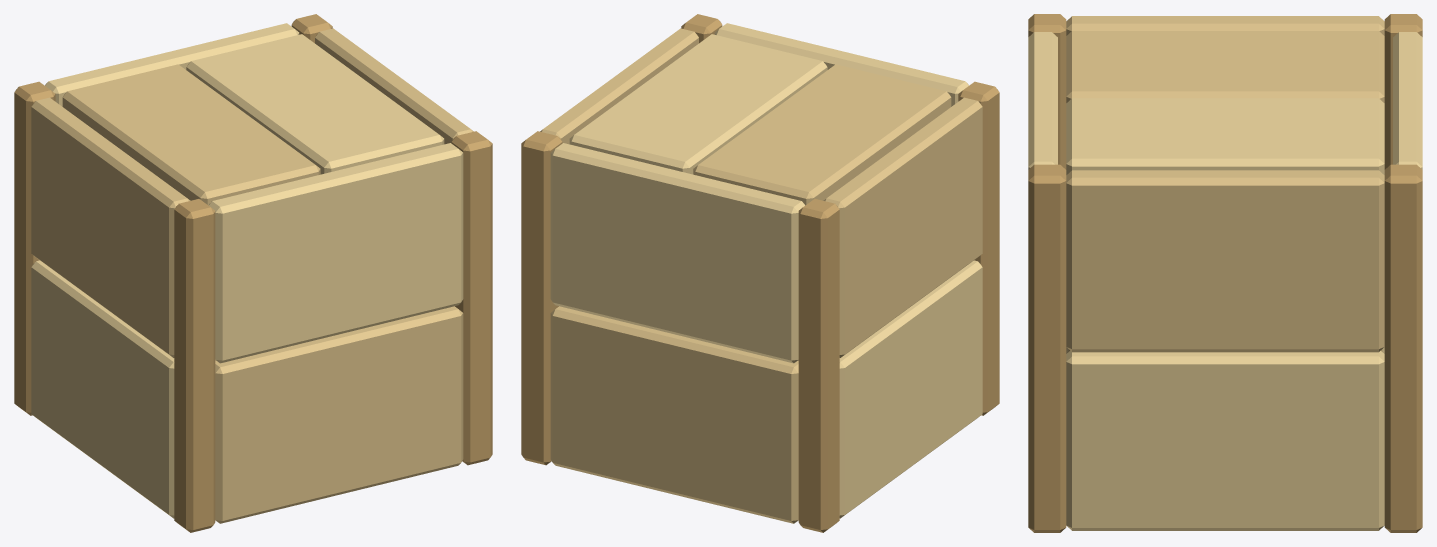
The model's file is FTF_Prop_WoodenCrate_0_3m_Cube.glb.
The picture shows the model from 3 angles, left to right: view 1: azimuth 30°, elevation 25°; view 2: azimuth 150°, elevation 25°; view 3: azimuth 270°, elevation 25°; orthographic projection. The views are drawn at different scales.
Parts seen in each view (by area): view 1: Crate_BackFrontBack_0_1, Crate_BackFrontBack_1_1, Crate_CornerBatten; view 2: Crate_BackFrontBack_0_1, Crate_BackFrontBack_1_1, Crate_CornerBatten; view 3: Crate_BackFrontBack_1_1, Crate_BackFrontBack_0_1, Crate_CornerBatten.
Boxes of the visible parts, <box> form: Crate_BackFrontBack_0_1: <box>31,28,473,523</box>; Crate_BackFrontBack_1_1: <box>31,23,463,518</box>; Crate_CornerBatten: <box>14,14,492,532</box>; Crate_BackFrontBack_0_1: <box>540,28,982,523</box>; Crate_BackFrontBack_1_1: <box>550,23,982,518</box>; Crate_CornerBatten: <box>521,14,999,532</box>; Crate_BackFrontBack_1_1: <box>1028,32,1422,530</box>; Crate_BackFrontBack_0_1: <box>1066,16,1384,352</box>; Crate_CornerBatten: <box>1028,14,1422,532</box>.
Size of the model in its own units: 0.3 by 0.3 by 0.3.
